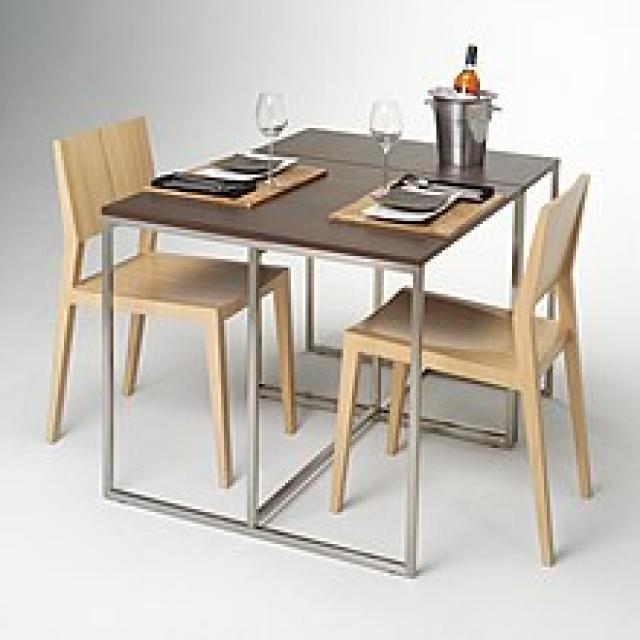table: (93, 115, 571, 280)
